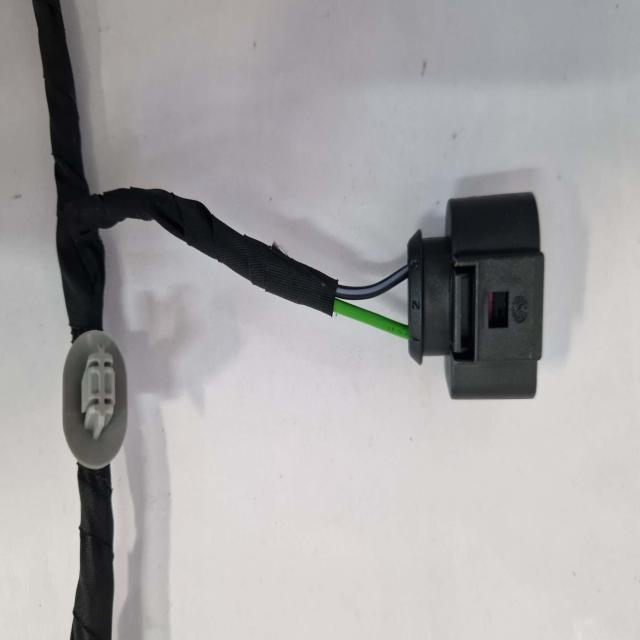Clip: (60, 326, 129, 470)
Connector: (408, 191, 548, 405)
Gape: (335, 266, 413, 344)
MHEV_N11_Cable: (34, 24, 341, 335), (67, 447, 113, 640)
